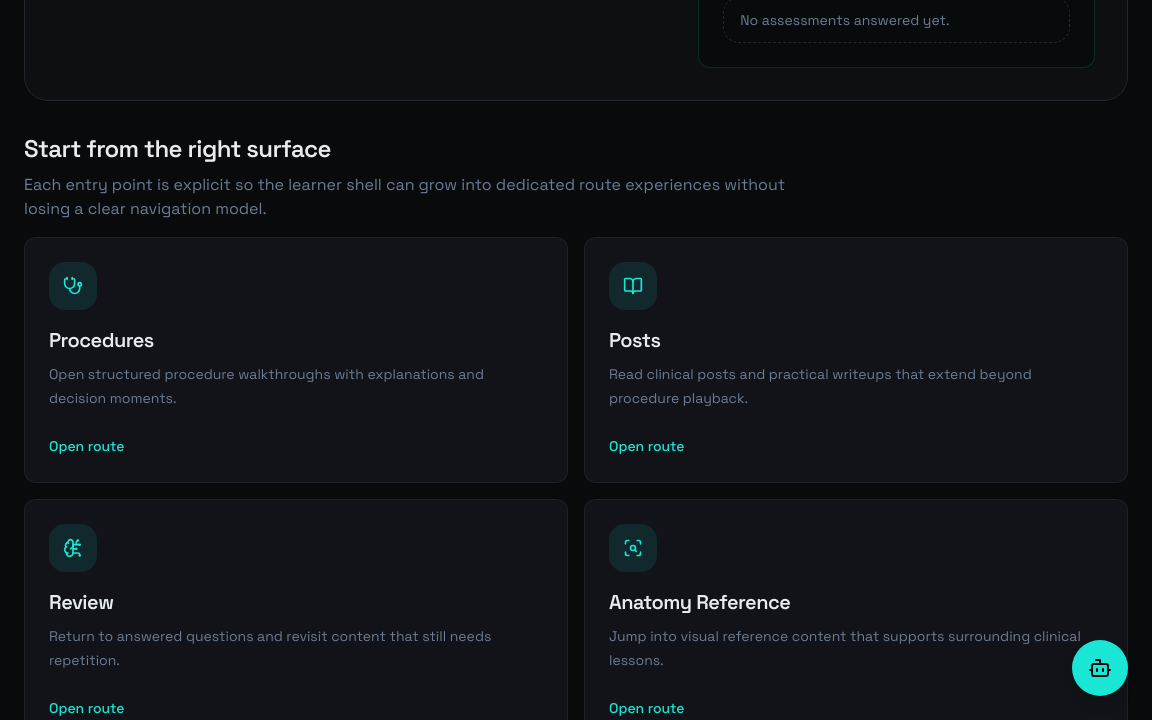
Test: learner shell › renders the learner home route and navigates to learner entry points
(page scrolled)
Click the link "Posts". click: [856, 360]
box: [584, 237, 1128, 483]
(page scrolled)
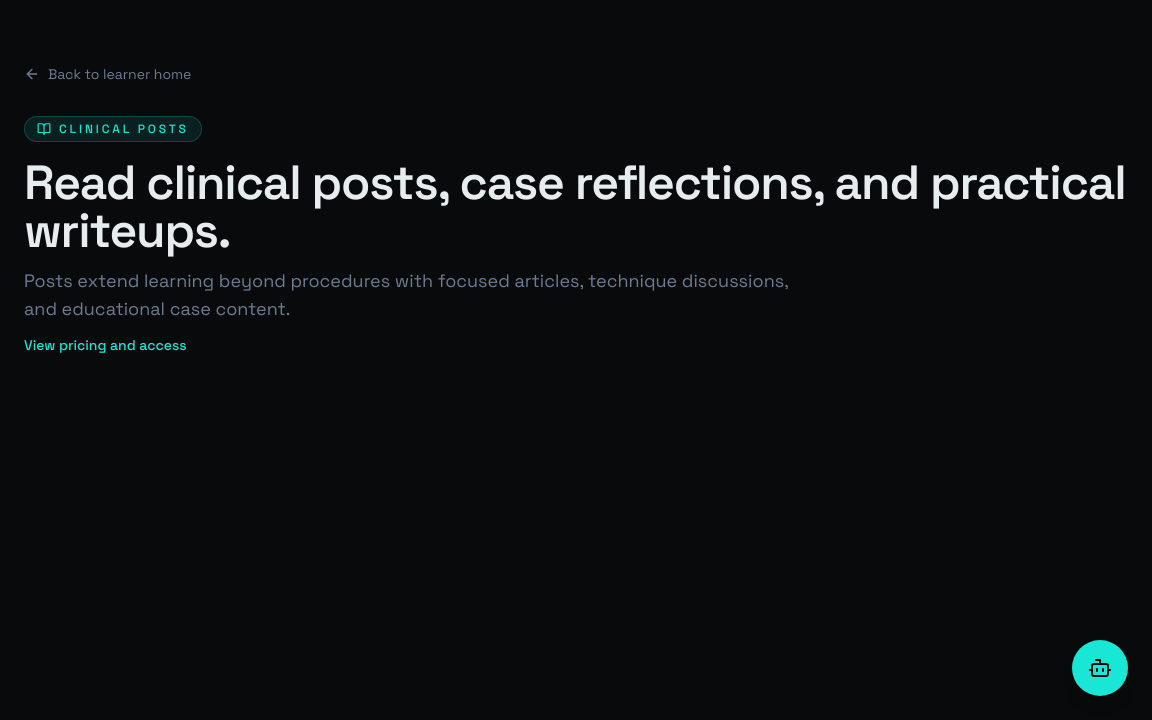
Expected: the heading "Read clinical posts" is shown, [24, 159, 1128, 255]
